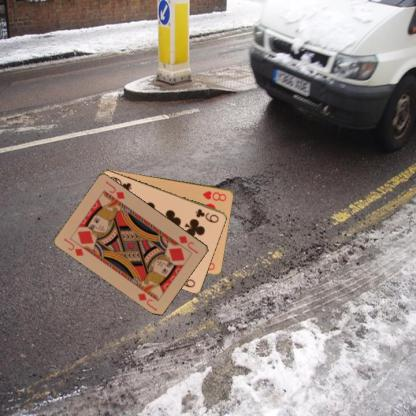8h: (200, 188, 228, 202)
9c: (193, 206, 220, 224)
Jd: (176, 233, 200, 255), (61, 235, 85, 257)
